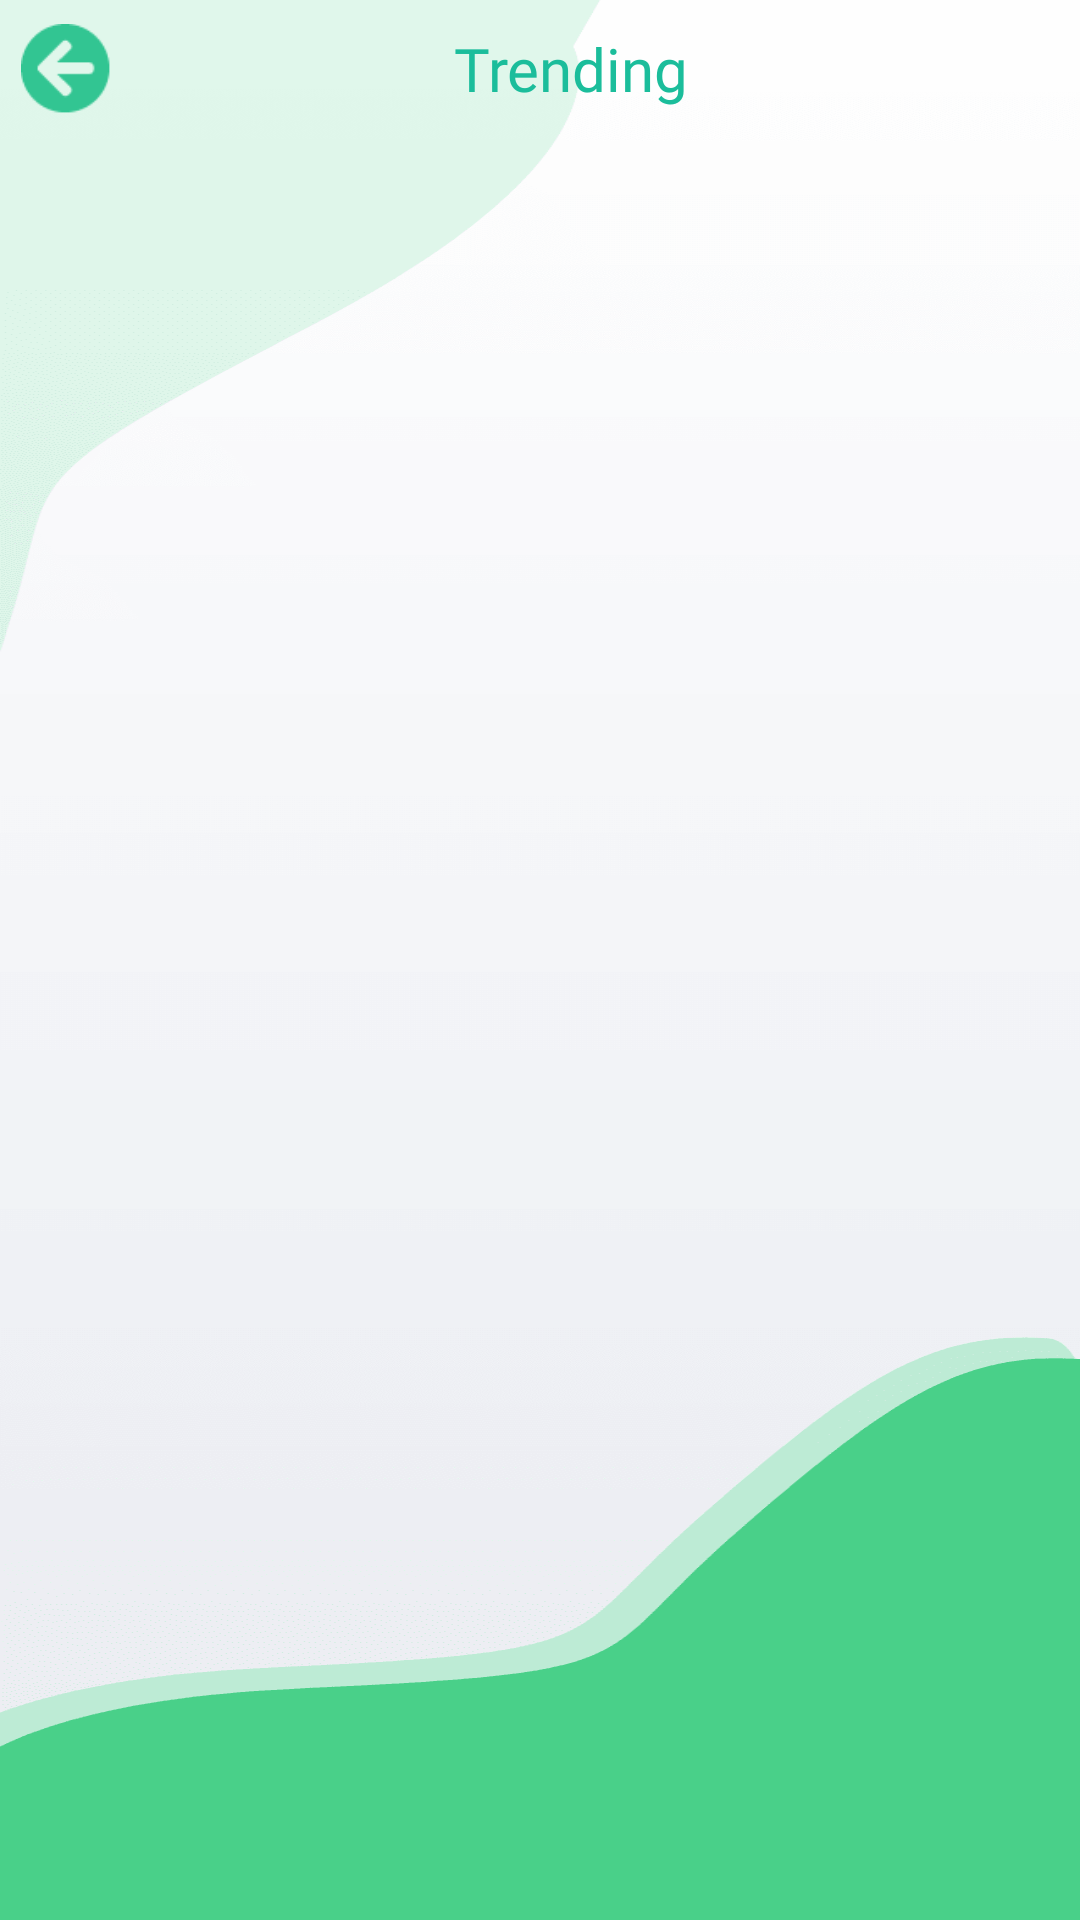

Icon bounding boxes for this 1080 x 1920 phone screenshot, format (left=x1, top=y1, right=x2, bottom=y2):
signupabackbutton: (left=21, top=24, right=110, bottom=113)
